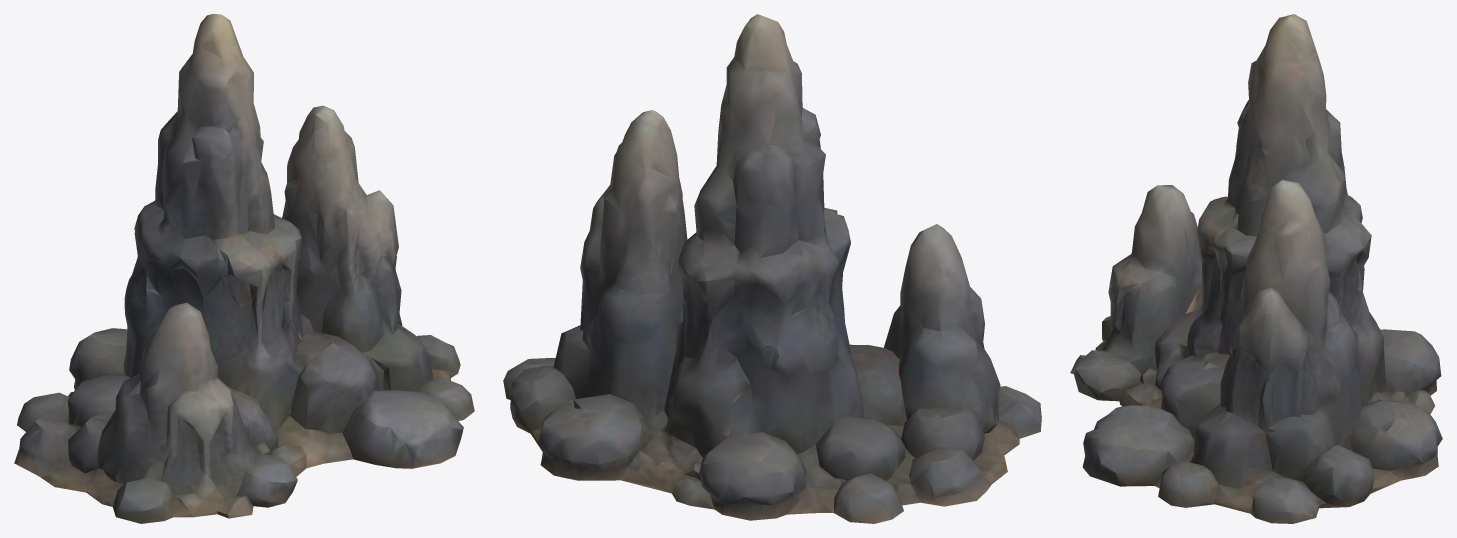
Rendered from estalagmitas_a_3000.glb.
The picture shows the model from 3 angles, left to right: view 1: azimuth 30°, elevation 25°; view 2: azimuth 150°, elevation 25°; view 3: azimuth 270°, elevation 25°; orthographic projection. The views are drawn at different scales.
Parts seen in each view (by area): view 1: estalagmitas_a_malla; view 2: estalagmitas_a_malla; view 3: estalagmitas_a_malla.
Part boxes in pixels (<box>): estalagmitas_a_malla: <box>14,14,474,523</box>; estalagmitas_a_malla: <box>503,14,1041,523</box>; estalagmitas_a_malla: <box>1070,14,1442,523</box>.
Size of the model in its own units: 0.4086 by 0.3564 by 0.3045.
Materials: 1 (1 with a texture image).
